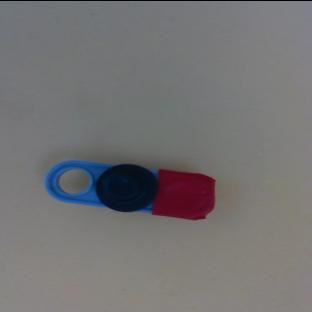part_1_good: (44, 153, 219, 222)
